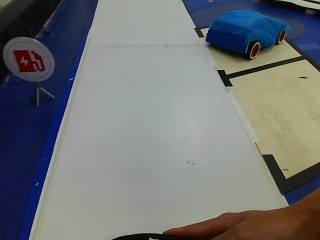battery: (0, 36, 52, 85)
car: (206, 10, 289, 61)
